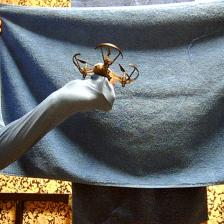drone: (72, 44, 140, 91)
